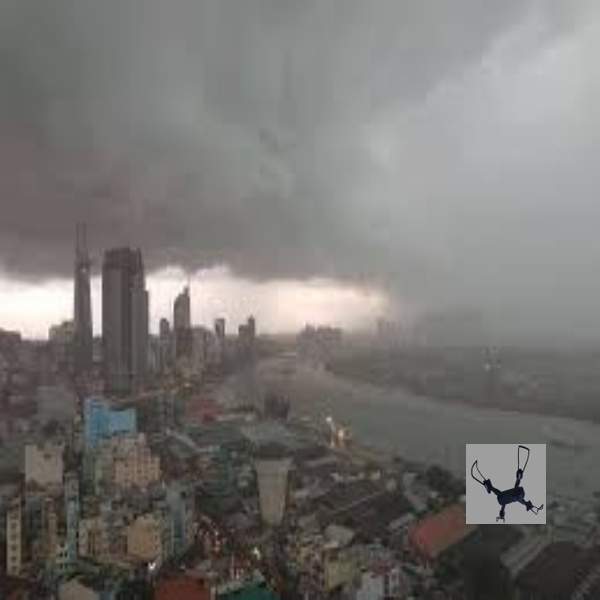drone: (466, 444, 546, 524)
